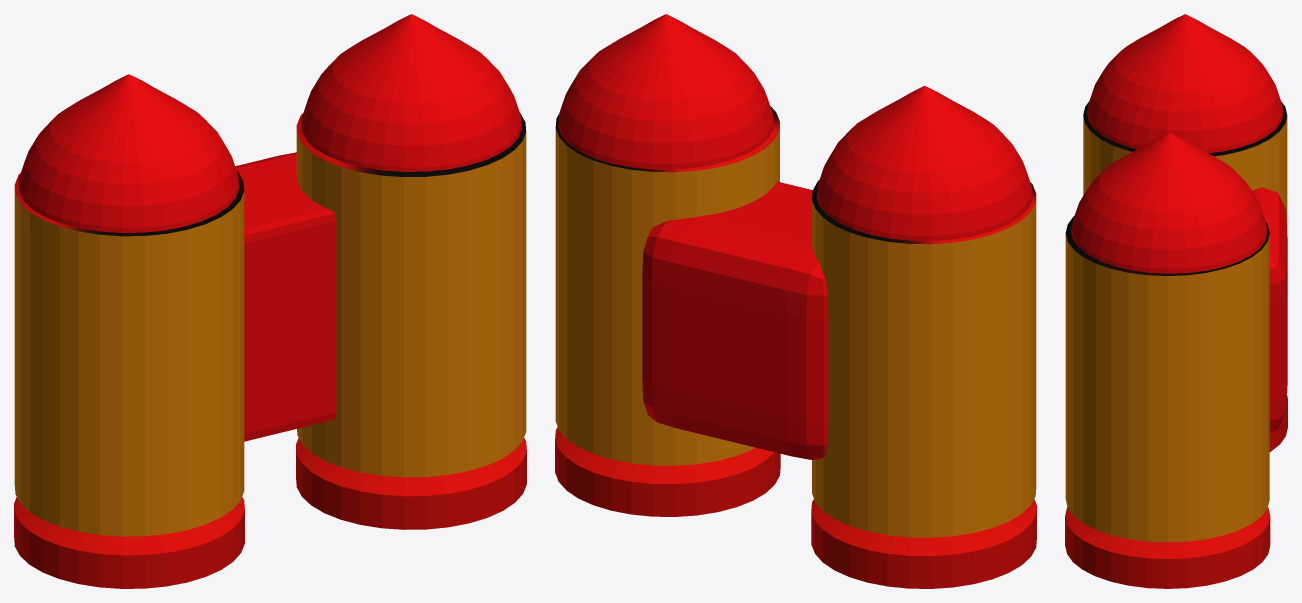
File: JetPack.fbx
The picture shows the model from 3 angles, left to right: view 1: azimuth 30°, elevation 25°; view 2: azimuth 150°, elevation 25°; view 3: azimuth 270°, elevation 25°; orthographic projection. The views are drawn at different scales.
Parts seen in each view (by area): view 1: Cylinder.011, Cylinder.001, Sphere.001, Sphere, Cube.040; view 2: Cylinder.011, Cylinder.001, Cube.040, Sphere, Sphere.001; view 3: Cylinder.001, Sphere, Sphere.001, Cylinder.011, Cube.040.
Boxes of the visible parts, box(x1,y1,x2,y2) form: Cylinder.011: box(14, 171, 244, 588); Cylinder.001: box(296, 113, 526, 529); Sphere.001: box(18, 74, 239, 232); Sphere: box(301, 14, 521, 171); Cube.040: box(235, 152, 336, 441); Cylinder.011: box(811, 180, 1036, 588); Cylinder.001: box(555, 106, 780, 516); Cube.040: box(642, 181, 828, 459); Sphere: box(558, 14, 773, 169); Sphere.001: box(816, 85, 1032, 240); Cylinder.001: box(1065, 216, 1270, 588); Sphere: box(1071, 132, 1267, 273); Sphere.001: box(1087, 14, 1283, 153); Cylinder.011: box(1083, 101, 1287, 451); Cube.040: box(1252, 187, 1287, 432).
Size of the model in its own units: 474 by 453 by 218.
